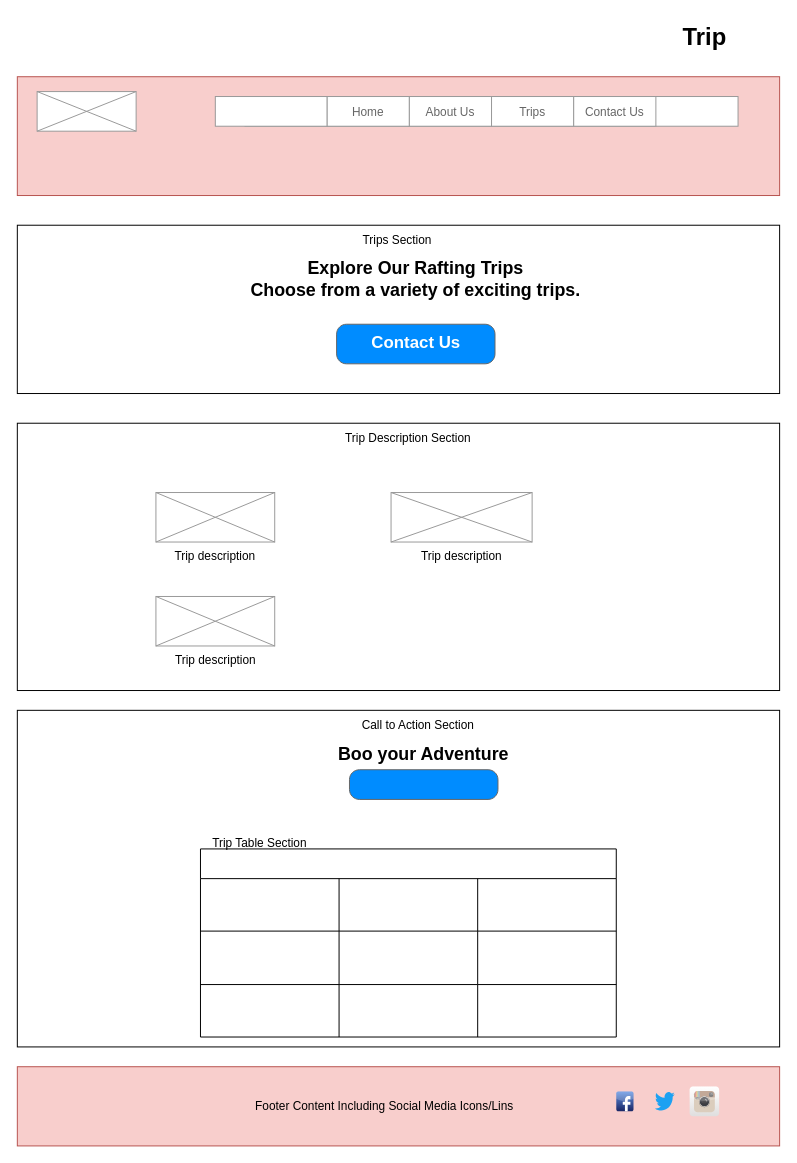
Image size: 797x1163. Some labels were removed from this diagram. Each missing label, with the centre of its shape:
"Boo Now" goes at pixel 423 784.
"Rafting Adventures" goes at pixel 270 111.
"Trip Options" goes at pixel 407 942.
